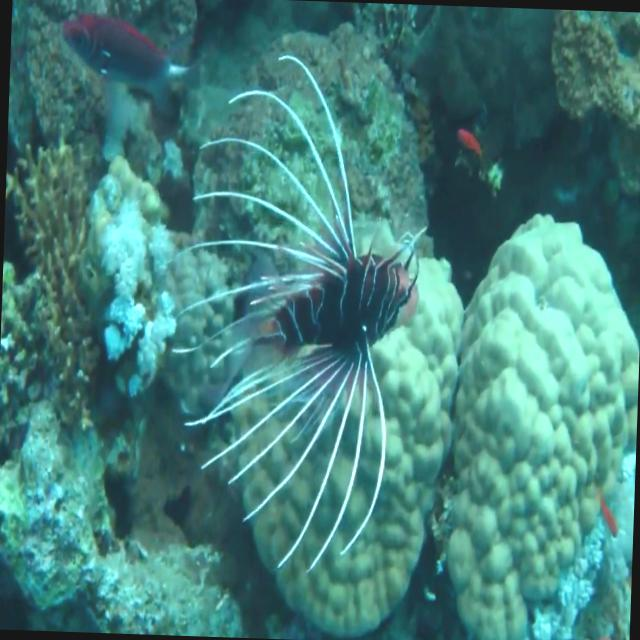Aslan Baligi: (157, 47, 433, 580)
